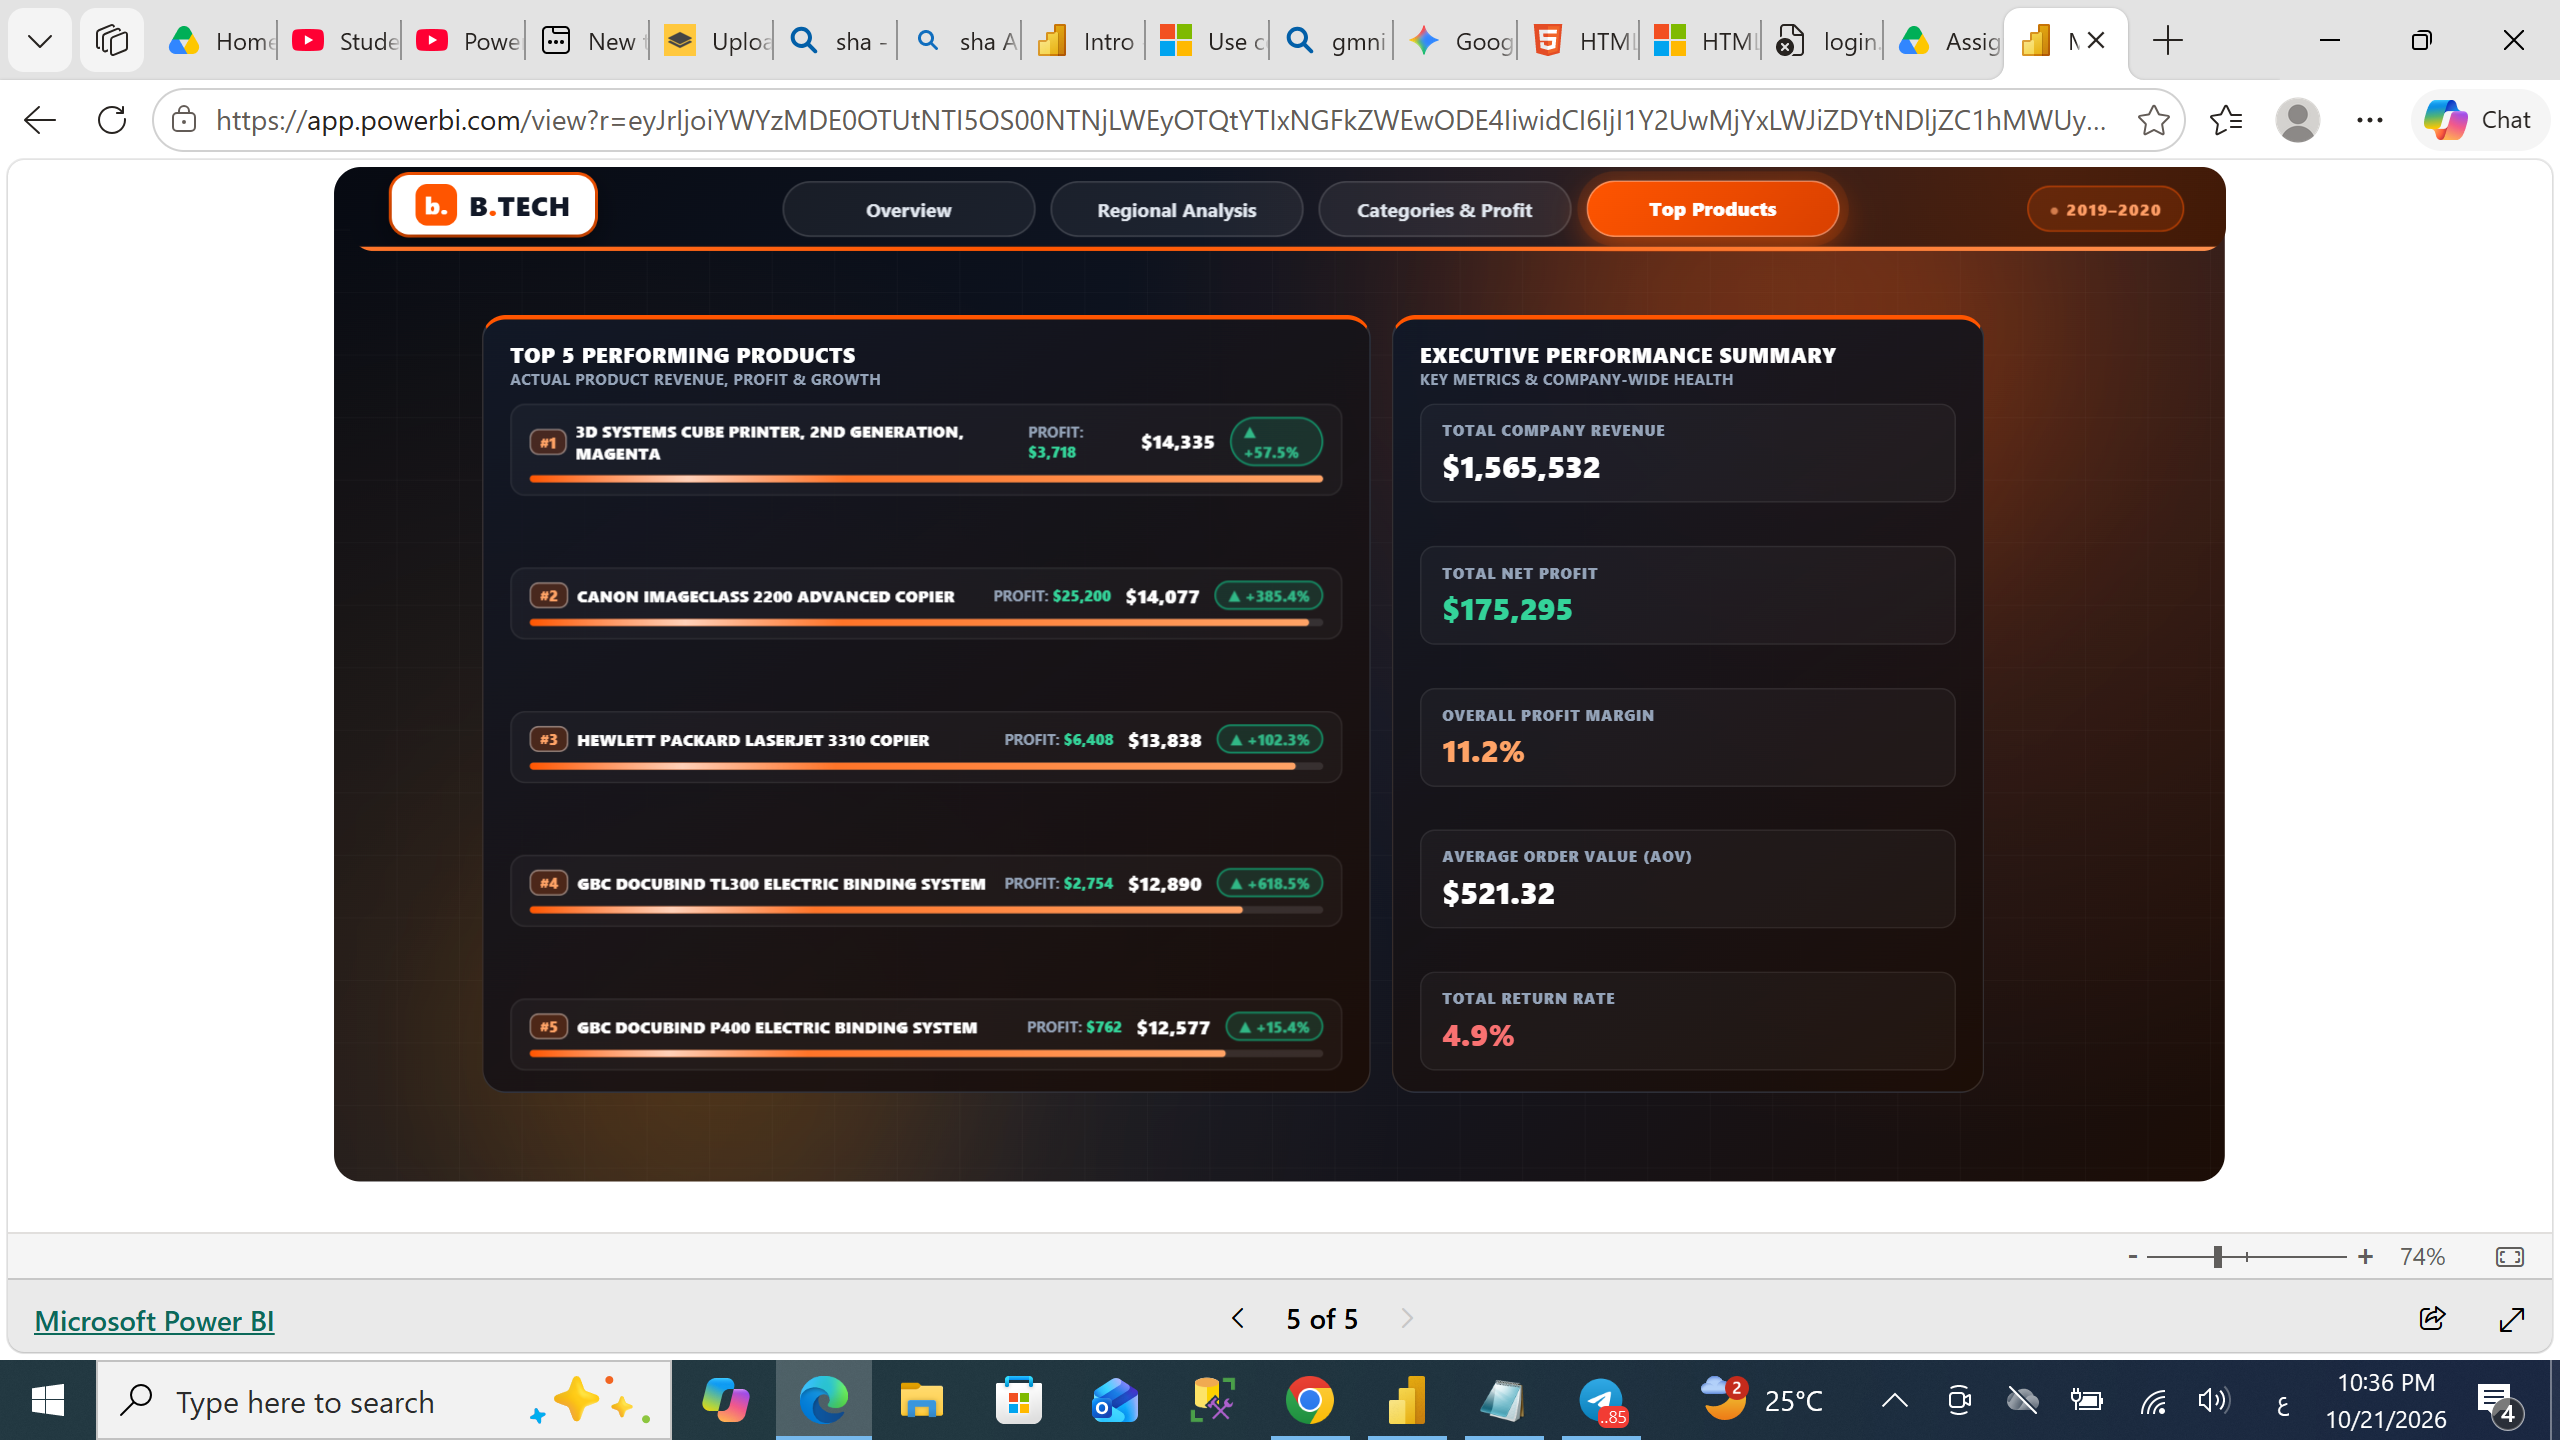

Layout of this report page (visuals, bound fields, positions):
{"tool":"powerbi","page":{"name":"Top Products","canvas":[1280,720],"ordinal":4},"visuals":[{"type":"htmlContent443BE3AD55E043BF878BED274D3A6855","fields":{"content":["Dax (2).Bg_Page"]},"box":[0,0,1280,719.3],"z":0},{"type":"htmlContent443BE3AD55E043BF878BED274D3A6855","fields":{"content":["Dax (2).Nav_Products"]},"box":[10.2,0,1270,70],"z":1000},{"type":"actionButton","box":[40.9,10.2,139.8,51.1],"z":2000},{"type":"actionButton","box":[323.7,12.7,139.6,50.8],"z":3000},{"type":"actionButton","box":[490.8,0,171.4,61.4],"z":4000},{"type":"actionButton","box":[679.1,10.6,139.6,50.8],"z":5000},{"type":"htmlContent443BE3AD55E043BF878BED274D3A6855","fields":{"content":["Dax (2).Chart_Top_Products"]},"box":[100,100,1018.6,566.1],"z":5001}]}

Visuals, with their boxes on the page's 1280x720 design canvas (x1, y1, x2, y2). These are canvas units, not pixel positions in the 2560x1440 screenshot, which may show the page scaled, cropped or inside an application window:
htmlContent443BE3AD55E043BF878BED274D3A6855 - Dax (2).Bg_Page: l=0, t=0, r=1280, b=719
htmlContent443BE3AD55E043BF878BED274D3A6855 - Dax (2).Nav_Products: l=10, t=0, r=1280, b=70
actionButton: l=41, t=10, r=181, b=61
actionButton: l=324, t=13, r=463, b=64
actionButton: l=491, t=0, r=662, b=61
actionButton: l=679, t=11, r=819, b=61
htmlContent443BE3AD55E043BF878BED274D3A6855 - Dax (2).Chart_Top_Products: l=100, t=100, r=1119, b=666
